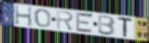B: (97, 14, 116, 36)
E: (75, 11, 94, 35)
H: (15, 5, 33, 28)
O: (34, 8, 52, 28)
R: (56, 10, 75, 32)
T: (118, 17, 134, 39)
